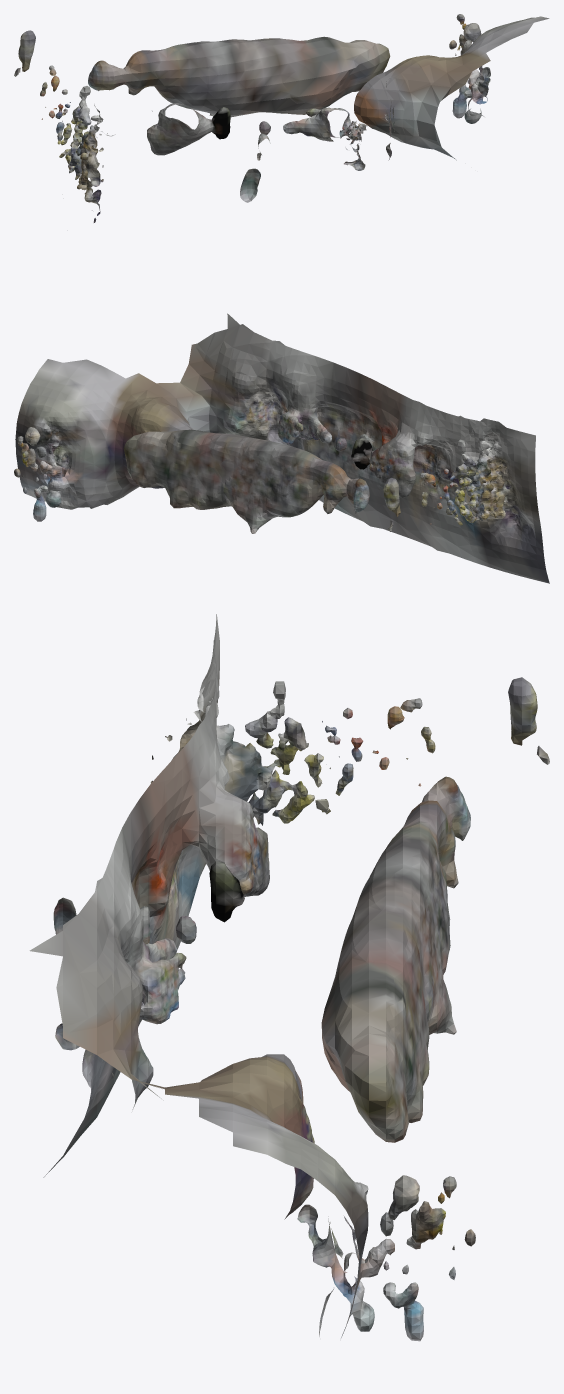
The model's file is supermarket_surface_mesh.glb.
The picture shows the model from 3 angles, top to bottom: view 1: azimuth 30°, elevation 25°; view 2: azimuth 150°, elevation 25°; view 3: azimuth 270°, elevation 25°; orthographic projection. The views are drawn at different scales.
Visible parts, largest first — view 1: geometry_0; view 2: geometry_0; view 3: geometry_0.
Part boxes in pixels (<box>): geometry_0: <box>14,14,549,222</box>; geometry_0: <box>14,313,549,583</box>; geometry_0: <box>29,614,549,1341</box>.
Bounding box in the file's own units: 143 × 46.91 × 70.43.
